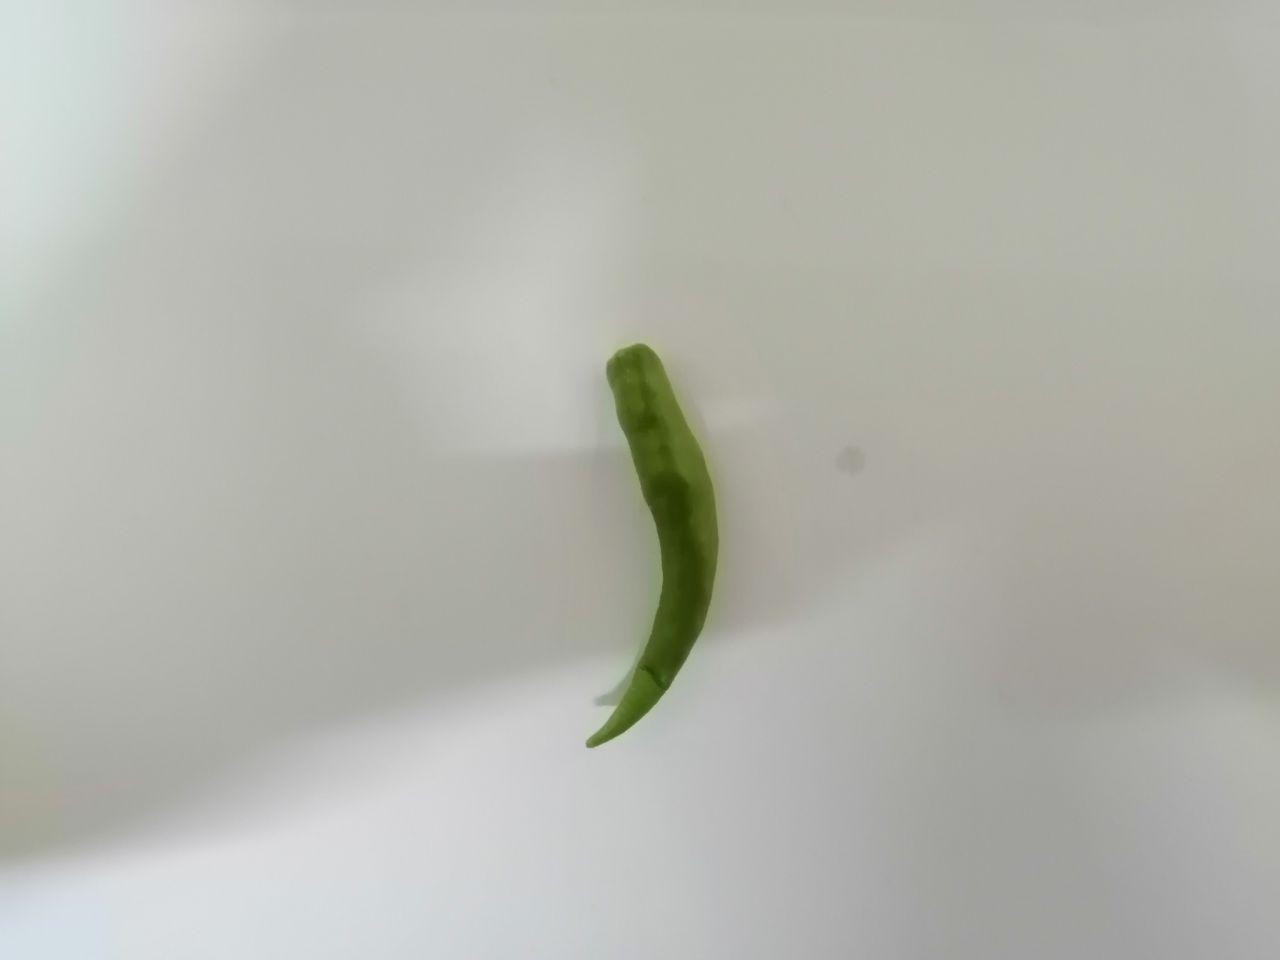lada hijau: (572, 305, 746, 778)
